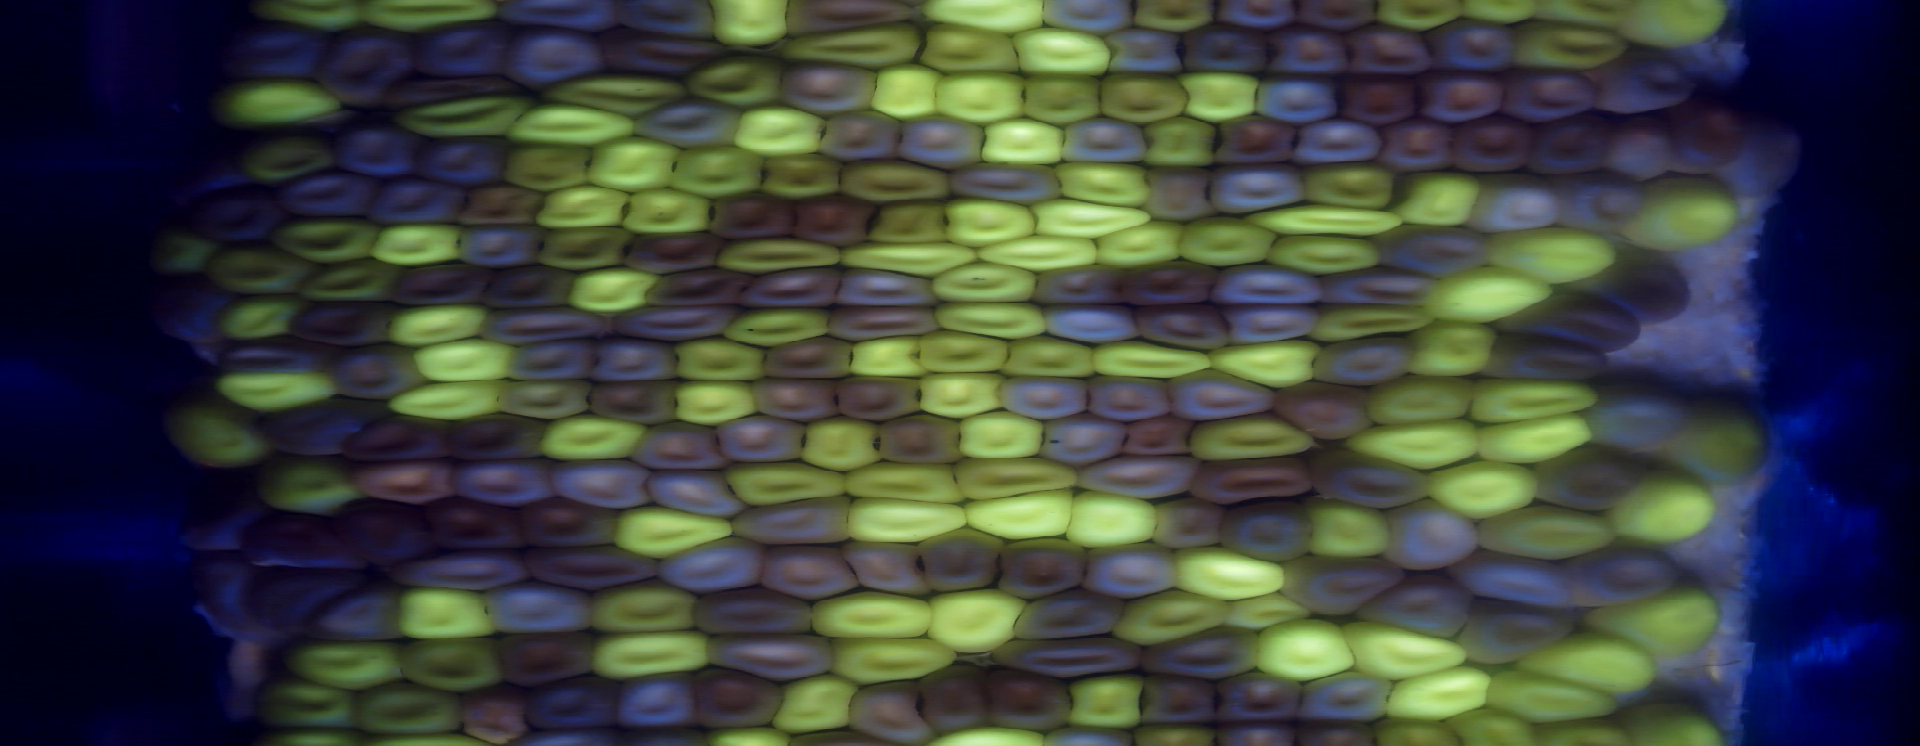fluorescent: (1582, 577, 1727, 661), (1517, 624, 1667, 699), (1660, 396, 1780, 490), (1619, 170, 1751, 255), (1337, 610, 1476, 690), (1414, 260, 1562, 330), (1602, 465, 1722, 551), (1471, 499, 1622, 565), (1338, 413, 1493, 477), (1480, 219, 1622, 288), (1480, 665, 1624, 731), (387, 87, 538, 149), (151, 398, 278, 472), (196, 71, 351, 131), (800, 583, 942, 648), (820, 628, 965, 692), (776, 16, 936, 72), (1242, 612, 1360, 687), (1419, 453, 1545, 523), (1463, 367, 1607, 429), (1166, 540, 1296, 608), (585, 625, 722, 688), (502, 96, 644, 157), (273, 635, 411, 697), (389, 628, 513, 698), (609, 499, 741, 563), (1298, 489, 1403, 570), (838, 451, 973, 513), (1502, 13, 1638, 76), (541, 66, 692, 122), (245, 666, 364, 737), (1108, 584, 1236, 649), (585, 575, 710, 641), (923, 582, 1029, 660), (1467, 409, 1602, 470), (1187, 408, 1326, 467), (720, 453, 856, 513), (345, 677, 474, 740), (1375, 659, 1499, 724), (831, 233, 986, 284), (839, 491, 973, 550), (198, 239, 320, 304), (253, 452, 366, 522), (831, 152, 967, 209), (1359, 369, 1483, 431), (387, 579, 497, 649), (1060, 484, 1169, 554), (204, 363, 342, 418), (960, 483, 1081, 544), (1202, 334, 1326, 394), (1025, 194, 1160, 247), (1400, 315, 1505, 383), (262, 209, 384, 268), (947, 451, 1086, 502), (680, 49, 792, 113), (1244, 198, 1411, 241), (227, 127, 345, 187), (927, 292, 1057, 345), (291, 250, 408, 310), (535, 408, 656, 465), (582, 132, 691, 196), (381, 374, 516, 425), (1307, 295, 1447, 344), (767, 669, 867, 737), (929, 65, 1035, 130), (662, 140, 768, 205), (915, 17, 1026, 78), (1005, 21, 1114, 83), (1164, 61, 1265, 127), (790, 410, 891, 475), (949, 401, 1051, 465), (495, 138, 600, 201), (407, 332, 520, 390), (1098, 66, 1201, 130), (380, 296, 495, 353), (936, 192, 1048, 250), (1173, 212, 1286, 269), (727, 100, 833, 162), (1085, 334, 1216, 383), (204, 287, 313, 345), (1015, 64, 1106, 134), (1390, 167, 1487, 232), (1048, 156, 1162, 211), (612, 181, 721, 239), (1085, 216, 1194, 273), (715, 232, 852, 277), (667, 332, 775, 390), (1294, 156, 1400, 214), (1262, 230, 1389, 279), (915, 323, 1018, 383), (1063, 665, 1151, 735), (528, 176, 634, 234), (662, 372, 767, 431), (975, 232, 1108, 277), (861, 58, 949, 126), (924, 258, 1047, 307), (751, 147, 852, 206), (558, 262, 666, 317), (998, 331, 1106, 386), (533, 219, 638, 276), (720, 303, 840, 352), (362, 217, 471, 271), (1624, 1, 1736, 51), (1615, 697, 1730, 746), (907, 367, 1009, 423), (354, 1, 504, 38), (1222, 587, 1324, 641), (913, 1, 1056, 39), (1140, 110, 1224, 174), (860, 195, 958, 249), (844, 331, 936, 385), (973, 115, 1067, 167), (705, 1, 795, 54), (241, 1, 373, 37), (144, 228, 227, 284), (1442, 703, 1540, 746), (1367, 1, 1473, 36), (1128, 1, 1224, 38), (1528, 1, 1641, 29), (1453, 1, 1544, 29)
nonfluorescent: (179, 548, 293, 655), (244, 392, 402, 464), (1346, 571, 1489, 647), (1273, 549, 1414, 624), (1449, 592, 1577, 673), (236, 561, 367, 639), (1499, 289, 1652, 355), (234, 507, 372, 579), (1444, 543, 1581, 615), (309, 24, 422, 111), (1578, 379, 1704, 457), (1526, 441, 1656, 516), (1586, 243, 1697, 330), (1558, 539, 1689, 612), (1371, 496, 1487, 579), (1304, 443, 1440, 513), (329, 489, 443, 572), (493, 20, 613, 98), (211, 13, 336, 86), (722, 490, 863, 552), (700, 628, 847, 686), (1136, 620, 1269, 684), (1007, 579, 1131, 647), (1542, 160, 1651, 238), (654, 532, 774, 601), (1589, 42, 1700, 118), (1716, 113, 1809, 202), (388, 543, 539, 598), (524, 539, 667, 597), (405, 15, 525, 83), (141, 266, 235, 353), (318, 336, 433, 407), (993, 632, 1151, 684), (687, 579, 820, 639), (980, 659, 1080, 739), (687, 660, 793, 735), (1215, 494, 1321, 568), (1365, 220, 1495, 282), (988, 530, 1096, 604), (624, 91, 748, 154), (1183, 453, 1321, 510), (598, 24, 730, 83), (1665, 89, 1750, 181), (1478, 330, 1615, 386), (479, 575, 595, 641), (756, 539, 867, 608), (840, 532, 940, 608), (1269, 376, 1378, 446), (167, 479, 262, 559), (775, 53, 888, 120), (1158, 364, 1284, 424), (1074, 450, 1204, 507), (413, 494, 528, 557), (519, 669, 626, 737), (1463, 168, 1570, 236), (489, 628, 605, 691), (1078, 539, 1187, 605), (182, 181, 295, 245), (287, 292, 399, 355), (1495, 64, 1608, 127), (945, 156, 1071, 212), (639, 463, 754, 524), (610, 668, 709, 739), (913, 526, 1010, 598), (336, 412, 457, 469), (1196, 159, 1318, 217), (475, 300, 616, 349), (808, 102, 913, 167), (302, 583, 408, 648), (544, 454, 658, 514), (1291, 669, 1404, 729), (514, 491, 626, 552), (404, 131, 513, 194), (829, 260, 955, 314), (912, 659, 996, 740), (891, 109, 993, 175), (1520, 110, 1618, 179), (1446, 110, 1544, 179), (1371, 111, 1464, 183), (1422, 13, 1524, 77), (378, 71, 527, 115), (842, 675, 934, 746), (211, 330, 340, 380), (778, 1, 924, 45), (992, 367, 1100, 428), (1206, 258, 1335, 309), (624, 416, 733, 475), (342, 457, 463, 510), (1176, 20, 1280, 81), (327, 119, 425, 184), (272, 167, 387, 222), (1114, 256, 1229, 311), (1599, 113, 1682, 189), (1311, 262, 1444, 310), (1258, 18, 1360, 80), (744, 372, 856, 429), (1305, 334, 1419, 390), (1209, 669, 1313, 729), (872, 408, 970, 472), (441, 410, 553, 465), (446, 454, 561, 508), (1416, 65, 1515, 127), (1131, 296, 1237, 355), (1338, 18, 1441, 78), (1057, 111, 1158, 171), (582, 332, 687, 390), (829, 369, 932, 428), (359, 175, 468, 230), (1102, 23, 1196, 87), (453, 679, 544, 745), (1138, 159, 1224, 228), (389, 258, 500, 312), (822, 298, 945, 345), (1284, 111, 1391, 167), (1037, 299, 1149, 352), (1080, 369, 1184, 425), (791, 189, 880, 254), (711, 412, 814, 468), (704, 187, 802, 246), (478, 260, 582, 315), (1033, 409, 1129, 469), (733, 265, 849, 314), (613, 301, 741, 345), (622, 225, 726, 279), (1145, 492, 1236, 554), (1335, 69, 1425, 130), (1206, 109, 1302, 167), (1138, 666, 1224, 729), (1029, 258, 1131, 311), (760, 334, 863, 387), (585, 374, 686, 428), (1249, 71, 1344, 127), (503, 334, 605, 387), (165, 141, 257, 198), (644, 262, 757, 309), (454, 219, 549, 274), (1215, 300, 1327, 345), (607, 1, 721, 44), (489, 1, 628, 36), (1116, 410, 1196, 462), (1037, 1, 1142, 40), (1209, 1, 1307, 36), (1291, 1, 1387, 36)
